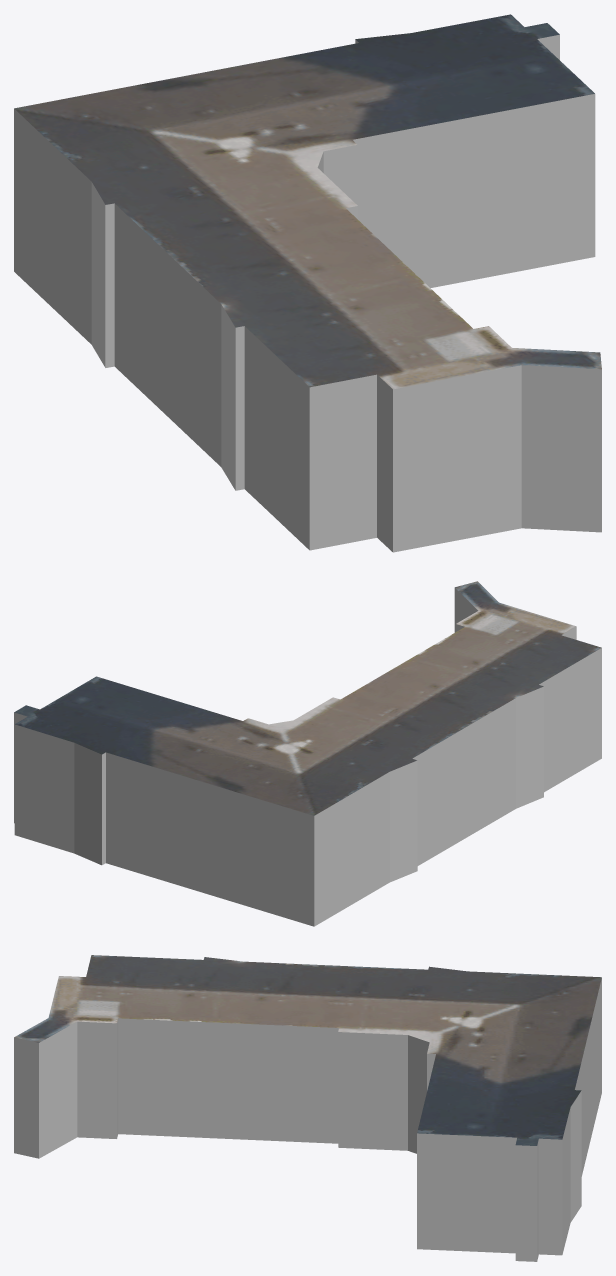
The model's file is DEBW_0010007Txi6.gltf.
The picture shows the model from 3 angles, top to bottom: view 1: azimuth 30°, elevation 25°; view 2: azimuth 150°, elevation 25°; view 3: azimuth 270°, elevation 25°; orthographic projection. The views are drawn at different scales.
Parts seen in each view (by area): view 1: Z_UP; view 2: Z_UP; view 3: Z_UP.
Part boxes in pixels (x1,y1,x2,y2): Z_UP: (14,14,601,552); Z_UP: (14,581,601,926); Z_UP: (14,955,601,1261).
Size of the model in its own units: 46.79 by 13.22 by 60.85.
Materials: 2 (1 with a texture image).
